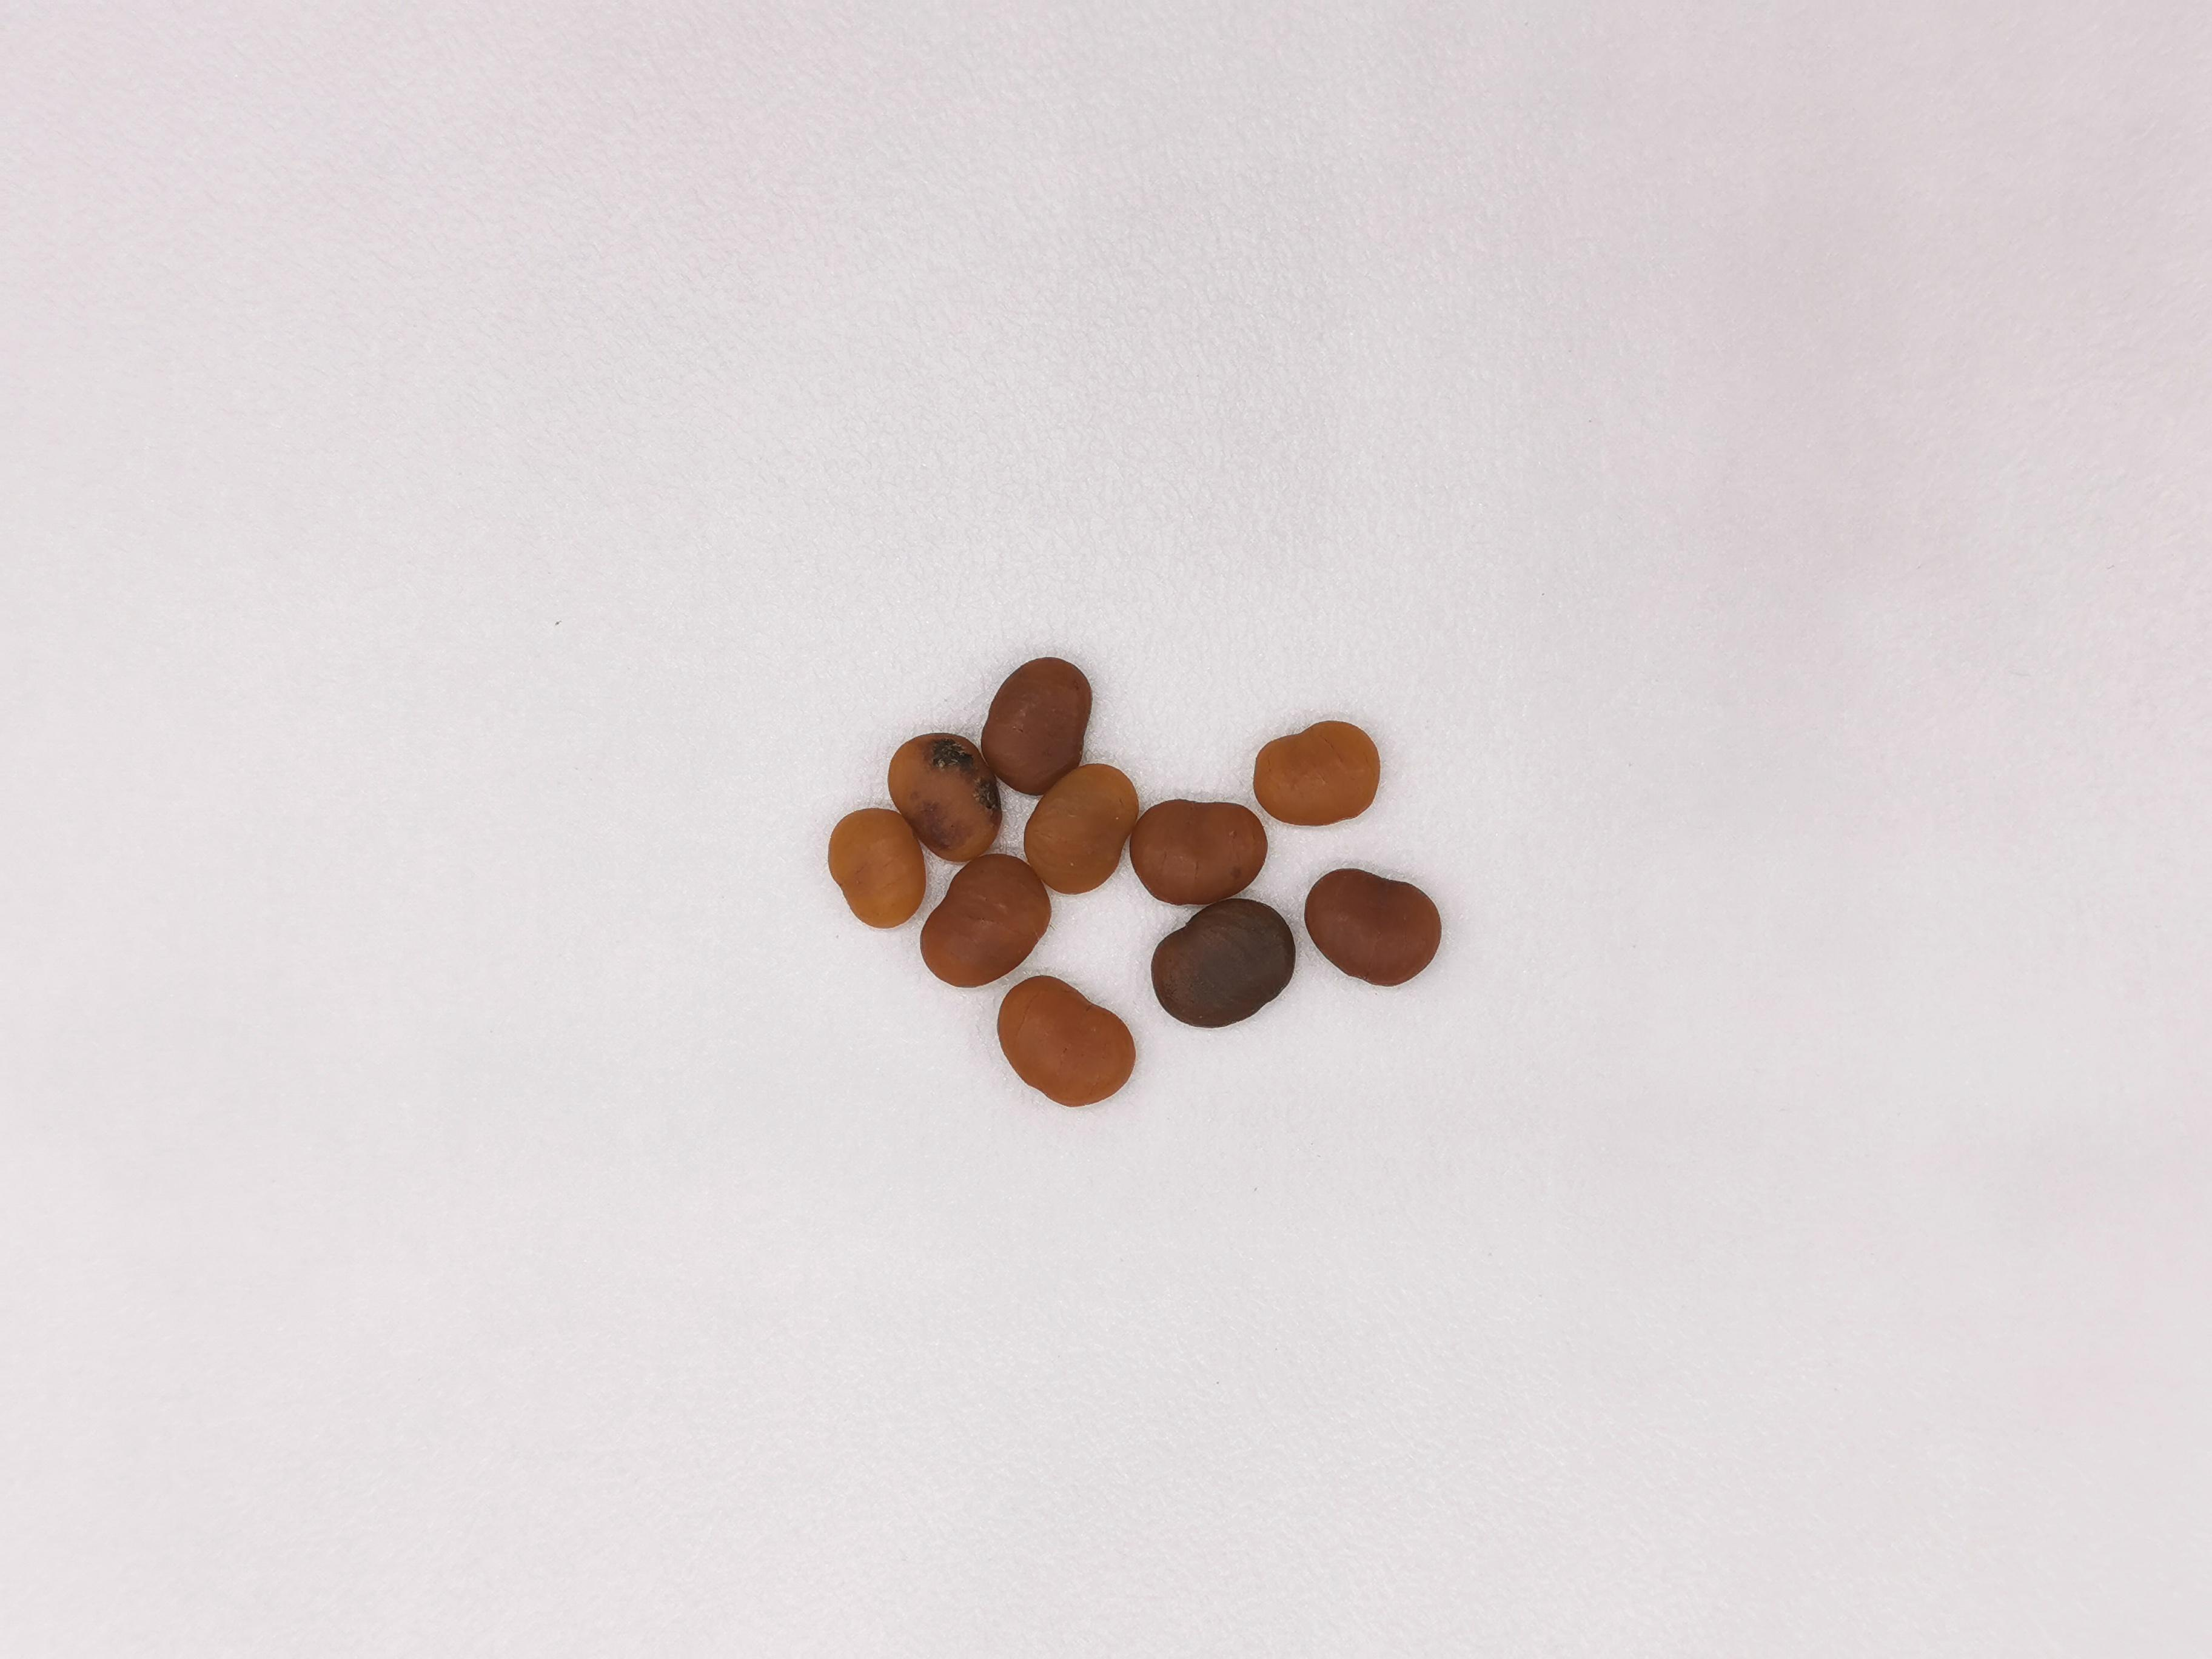seed: (993, 974, 1134, 1112), (1148, 899, 1296, 1030), (1301, 863, 1449, 988), (918, 854, 1050, 986), (1021, 755, 1139, 894), (885, 727, 1001, 866), (979, 653, 1096, 793), (1130, 796, 1268, 904), (1247, 721, 1385, 828), (827, 803, 928, 932)
